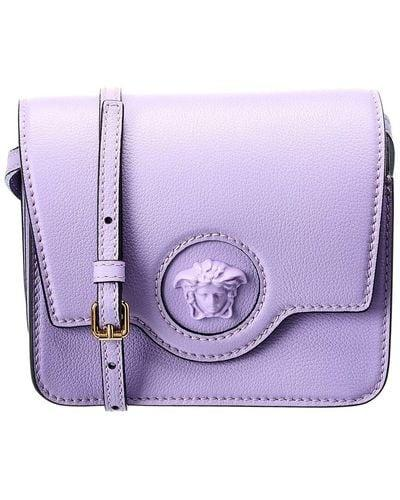VERSACE: (155, 230, 269, 342)
